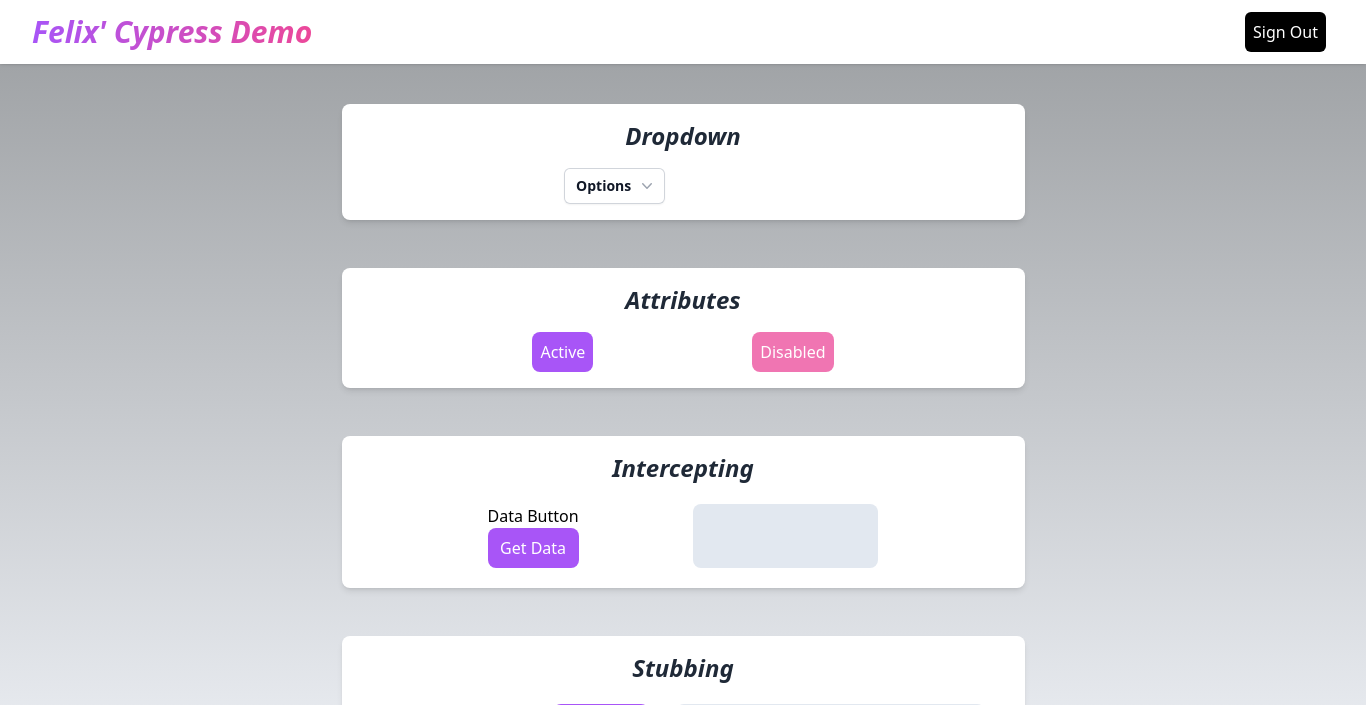
Test: Account Page › Should have a dropdown with options, select the 3rd to display
The width and height of the screenshot is (1366, 705).
Click the button "Options" at (615, 186), box [564,168,665,204]
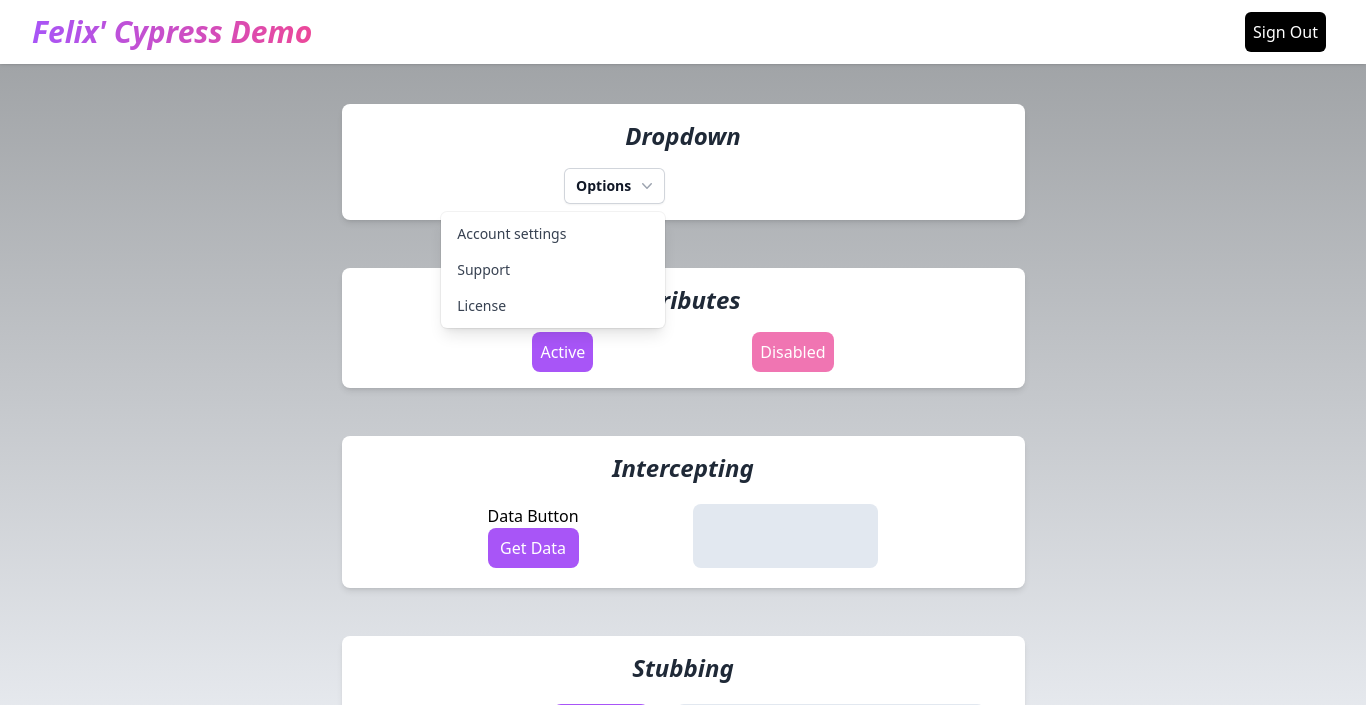
Click the menu item "License" at (482, 306), box [457,296,506,315]
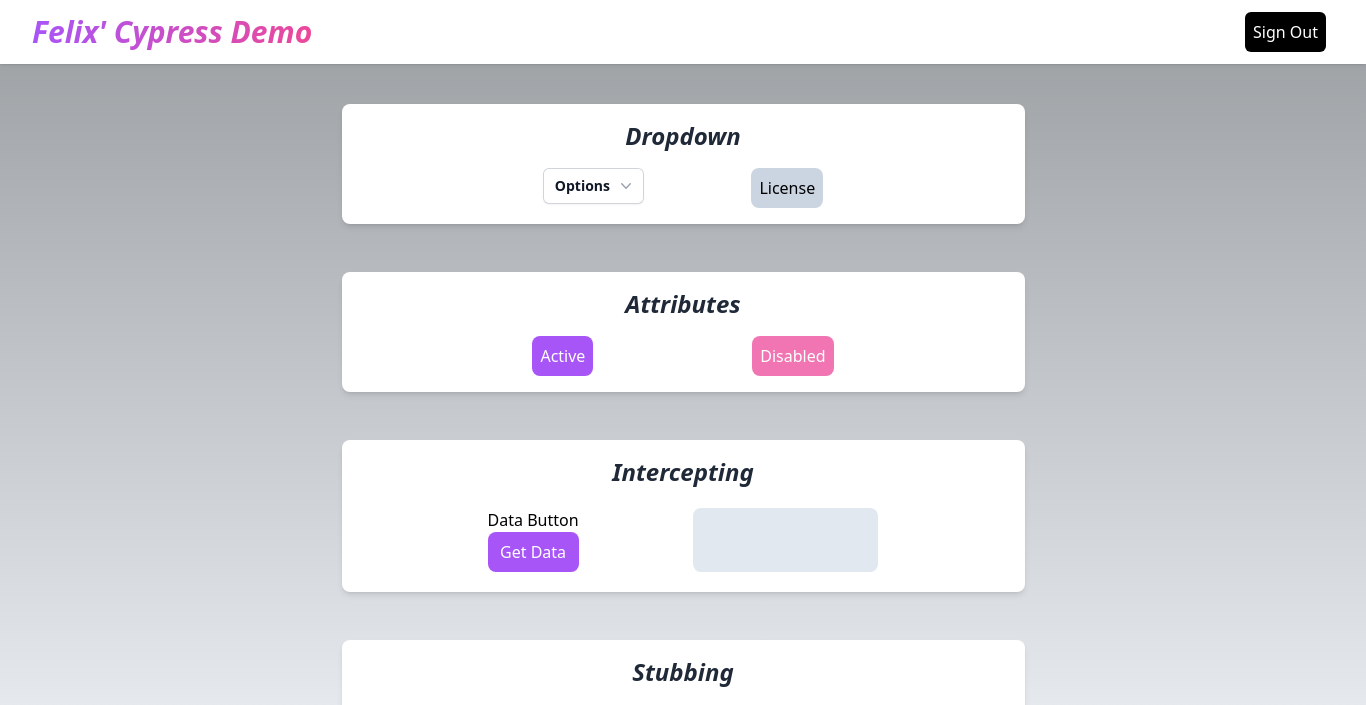
Result: the text "License" is shown at [751,168,823,208]
